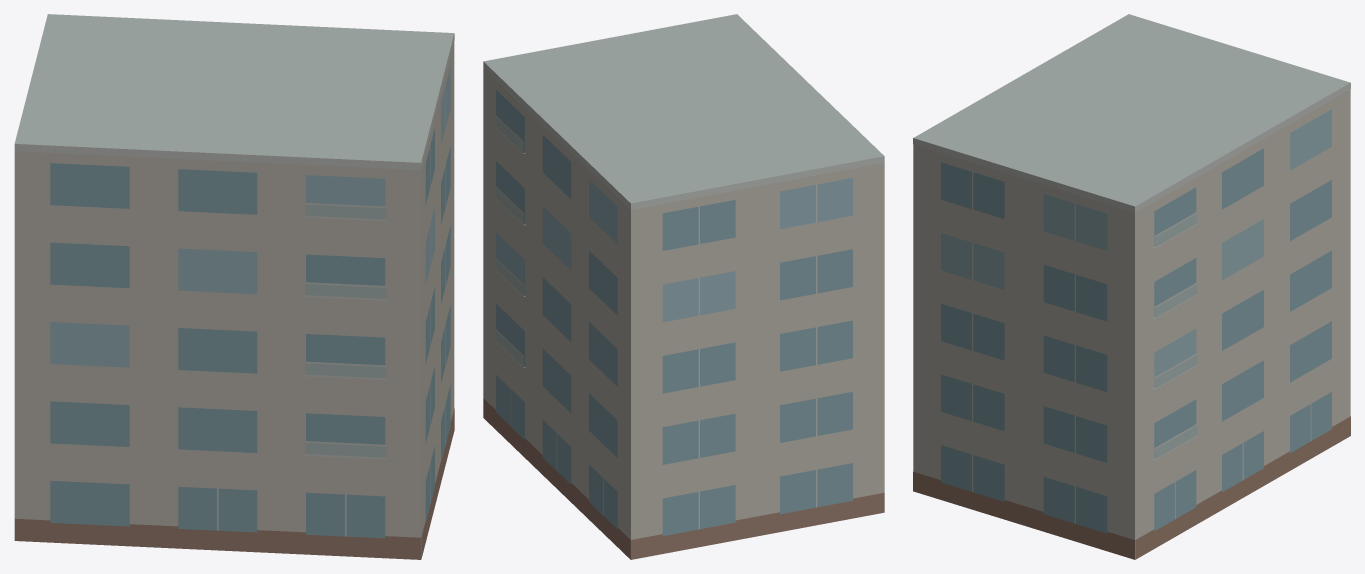
File: survey-upis-32941608.glb
The picture shows the model from 3 angles, left to right: view 1: azimuth 30°, elevation 25°; view 2: azimuth 150°, elevation 25°; view 3: azimuth 270°, elevation 25°; orthographic projection. The views are drawn at different scales.
Parts seen in each view (by area): view 1: survey-upis-32941608.tmp; view 2: survey-upis-32941608.tmp; view 3: survey-upis-32941608.tmp.
Part boxes in pixels (x1,y1,x2,y2): survey-upis-32941608.tmp: (14, 14, 454, 559); survey-upis-32941608.tmp: (483, 14, 884, 559); survey-upis-32941608.tmp: (913, 14, 1350, 559).
Size of the model in its own units: 15.55 by 13.3 by 14.94.
